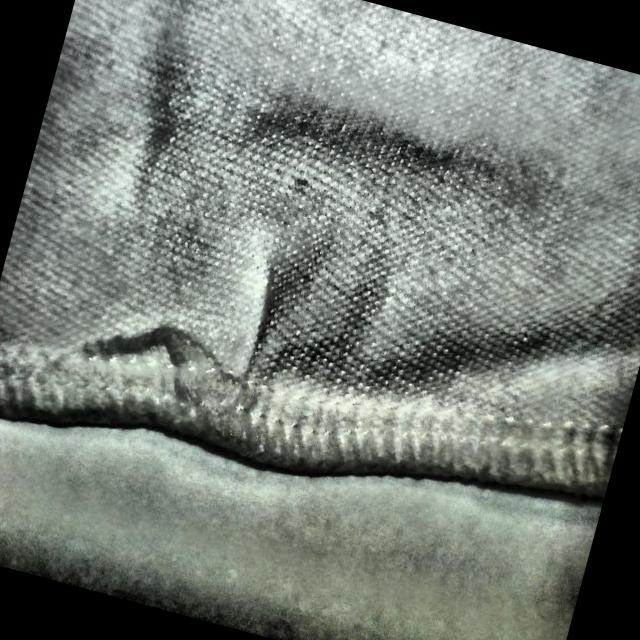gray stitch: (62, 252, 302, 458)
